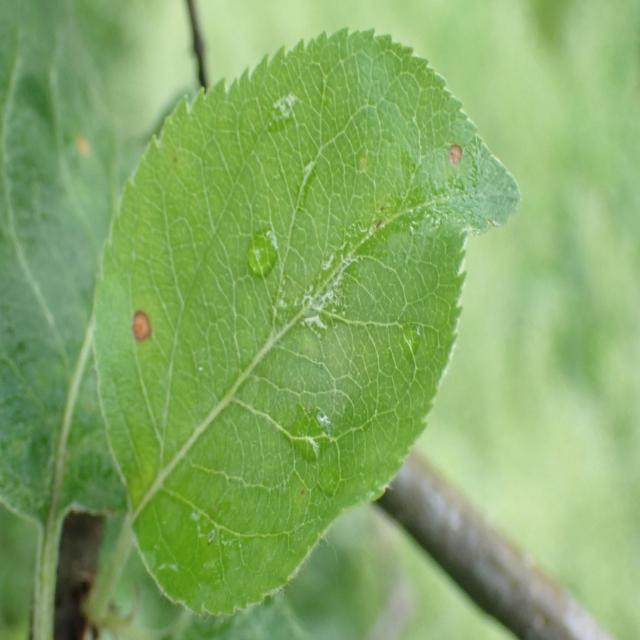Black Rot: (120, 296, 166, 368), (443, 127, 468, 191)
